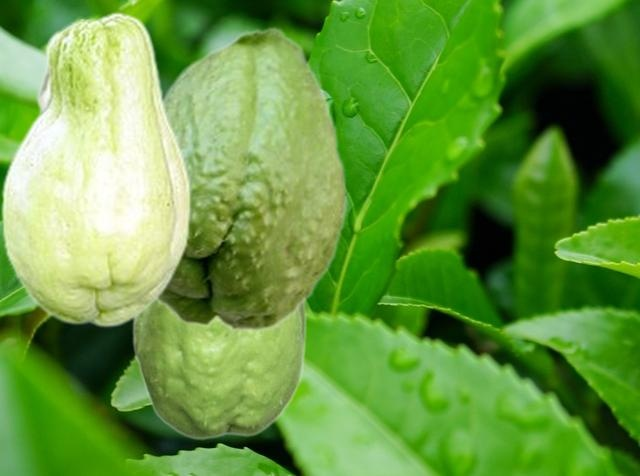sayote: (0, 11, 190, 327), (156, 25, 348, 332), (131, 303, 307, 440)
